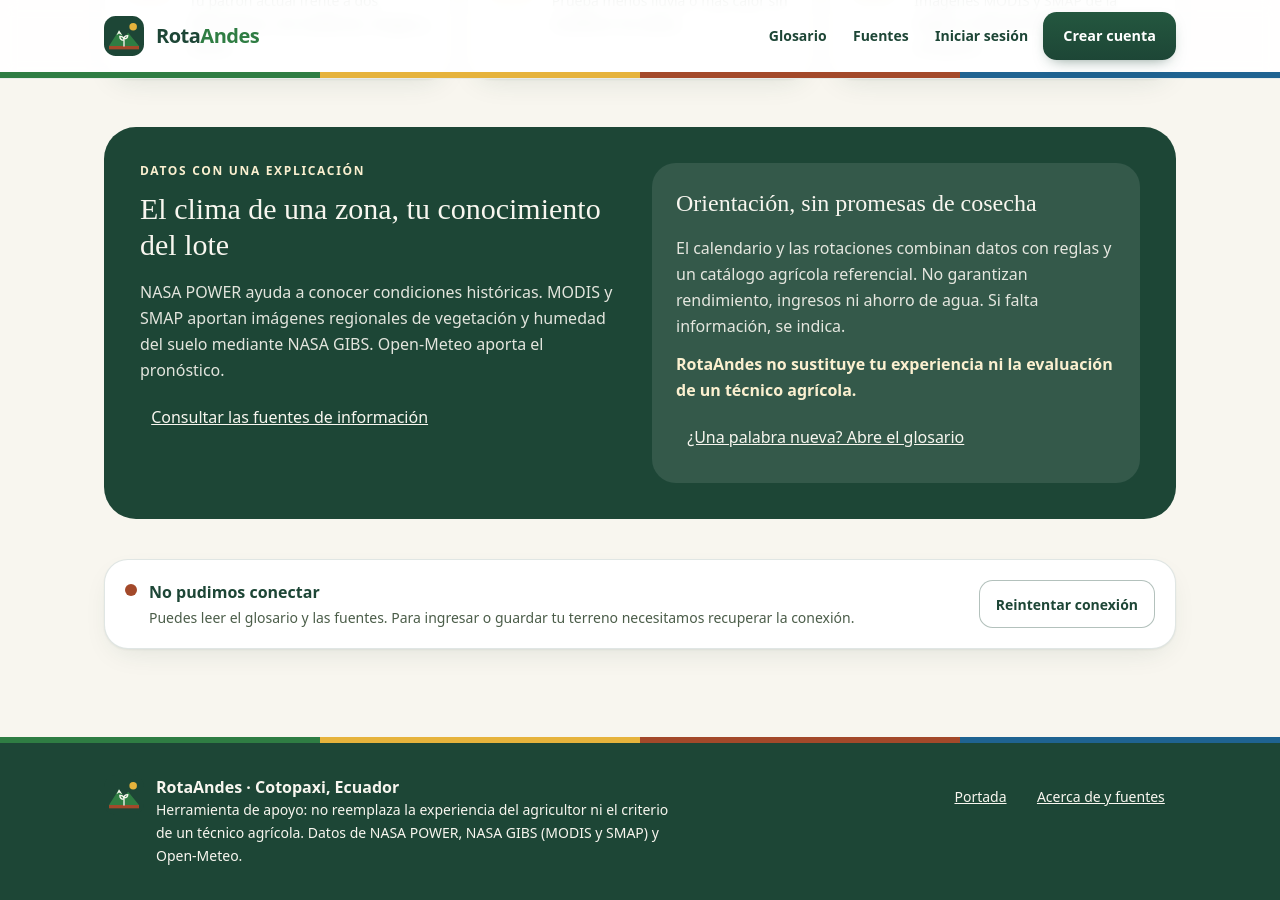
Página inicial › permite recuperarse de un fallo de red con el botón de reintento
(page scrolled)
Expected: the message shows "No pudimos conectar", [149,581,320,603]
What coordinates should you click on to do the following:
click the button "Reintentar conexión"
I would click on:
 (1067, 604)
Its box is [979,580,1155,628].
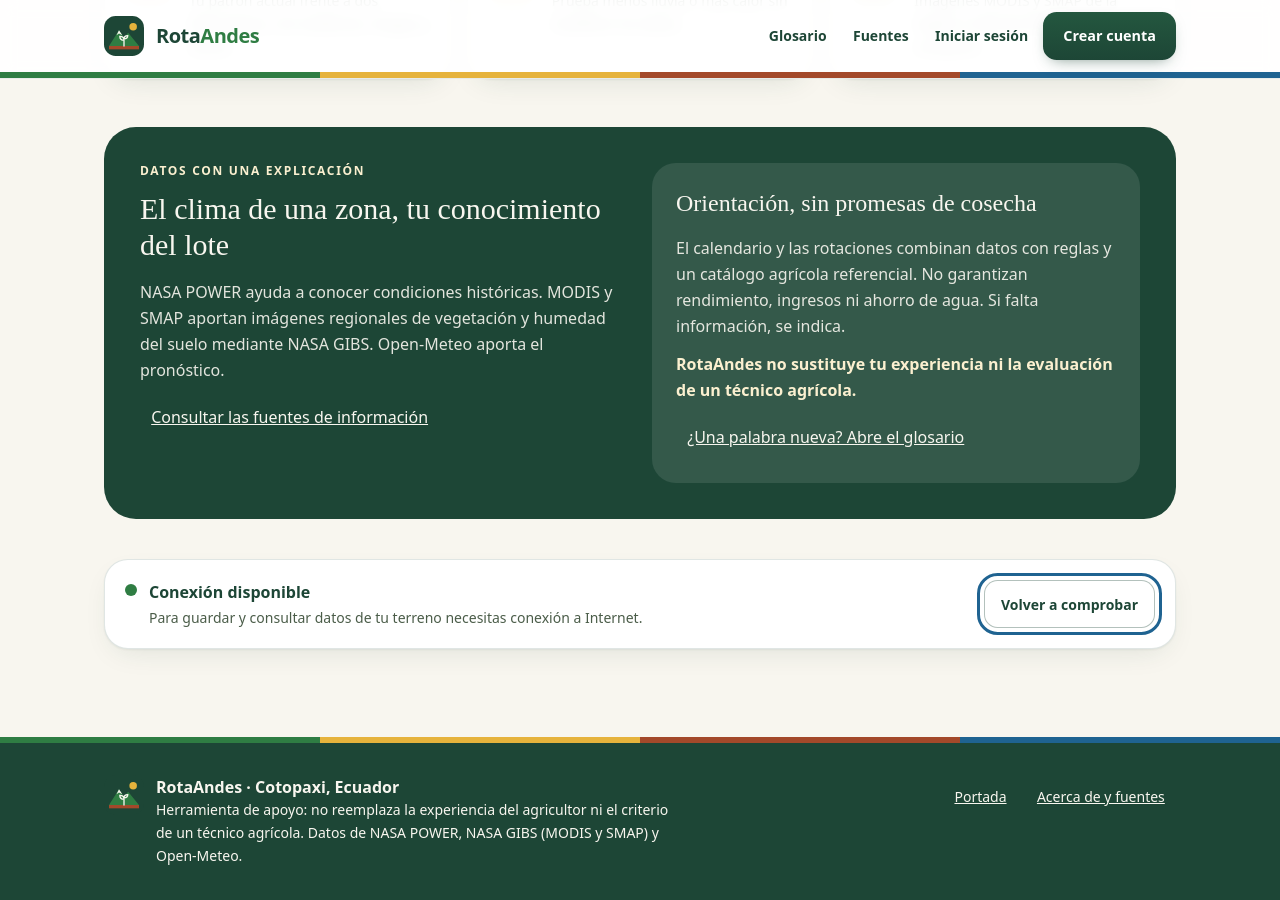
Expected: the message shows "Conexión disponible", [149,581,310,603]
